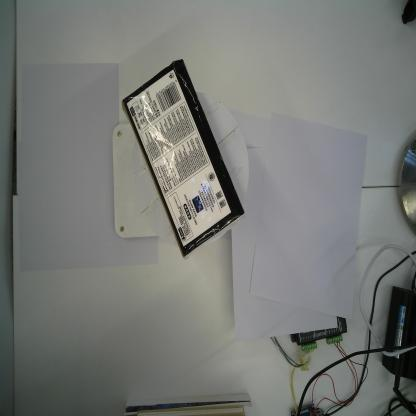Tissue: (122, 58, 246, 259)
